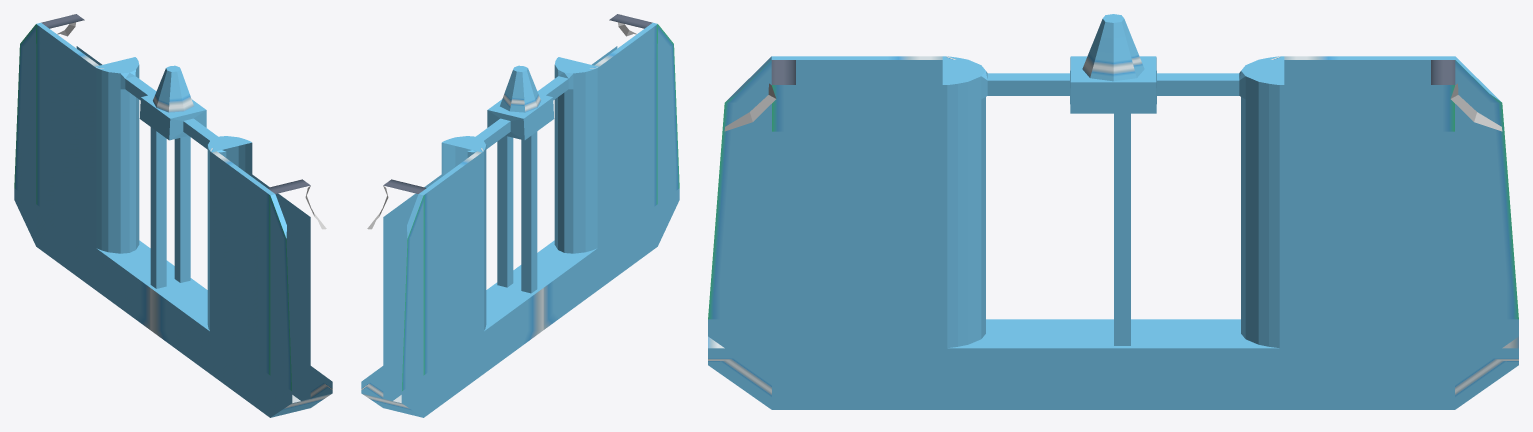
The model's file is gateclose.obj.
3 renders of one model, left to right at view 1: azimuth 30°, elevation 25°; view 2: azimuth 150°, elevation 25°; view 3: azimuth 270°, elevation 25°, orthographic. The views are drawn at different scales.
Parts seen in each view (by area): view 1: cube; view 2: cube; view 3: cube.
Boxes of the visible parts, x1,y1,x2,y2 form: cube: [14, 14, 332, 417]; cube: [361, 14, 679, 417]; cube: [708, 14, 1518, 409].
Bounding box in the file's own units: 1.02 × 1.52 × 2.97.
